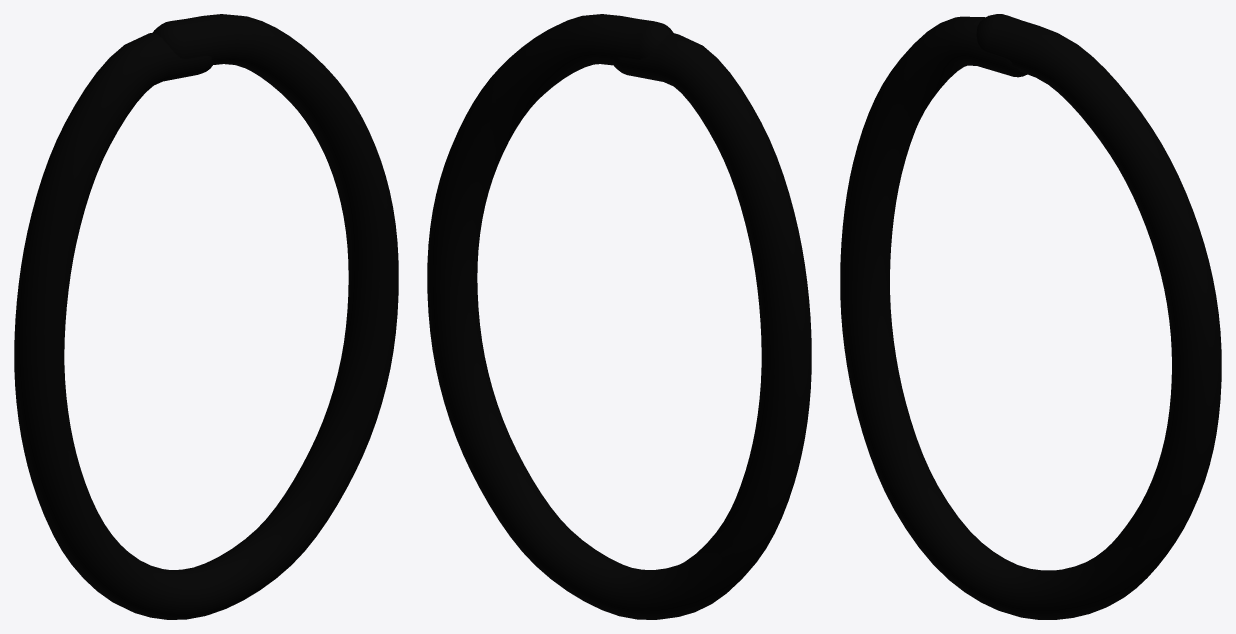
Rendered from portal.glb.
The picture shows the model from 3 angles, left to right: view 1: azimuth 30°, elevation 25°; view 2: azimuth 150°, elevation 25°; view 3: azimuth 330°, elevation 25°; orthographic projection.
Parts seen in each view (by area): view 1: mesh_id54; view 2: mesh_id54; view 3: mesh_id54.
Part boxes in pixels (x1,y1,x2,y2): mesh_id54: (14,14,398,619); mesh_id54: (427,14,811,619); mesh_id54: (840,14,1221,619).
Bounding box in the file's own units: 0.3123 × 0.4717 × 0.0359.
1 material, 1 textured.
